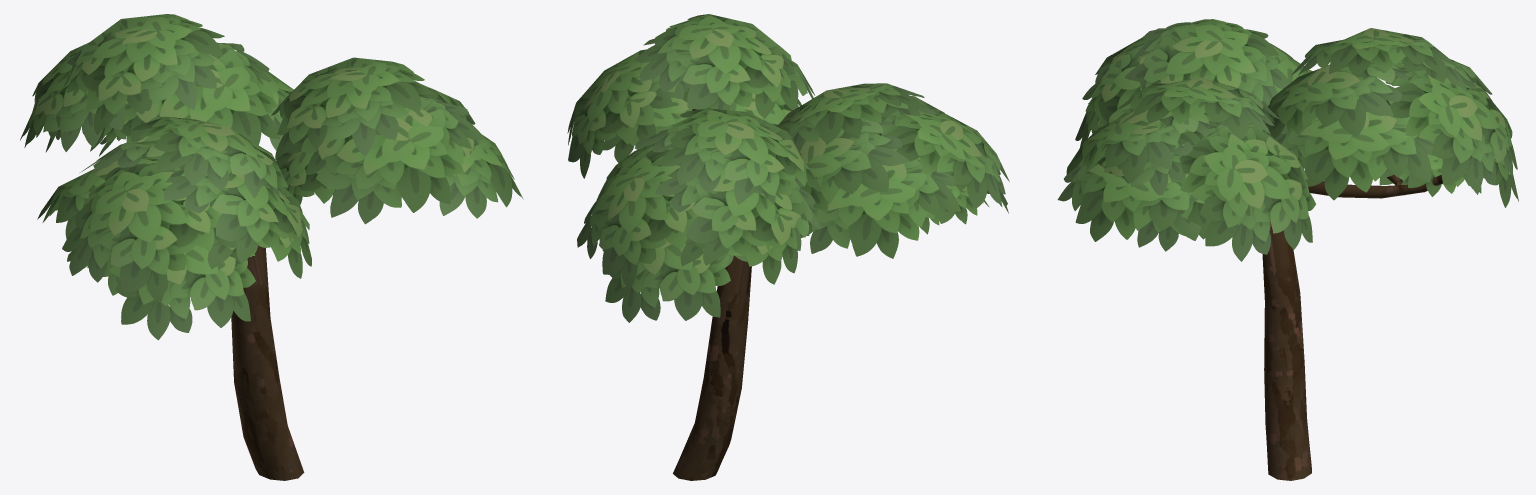
The model's file is textured_tree_2.glb.
The picture shows the model from 3 angles, left to right: view 1: azimuth 30°, elevation 25°; view 2: azimuth 150°, elevation 25°; view 3: azimuth 270°, elevation 25°; orthographic projection. The views are drawn at different scales.
Visible parts, largest first — view 1: Tree_2_Cylinder.017; view 2: Tree_2_Cylinder.017; view 3: Tree_2_Cylinder.017.
Boxes of the visible parts, x1,y1,x2,y2 form: Tree_2_Cylinder.017: (20, 14, 523, 480); Tree_2_Cylinder.017: (567, 14, 1009, 480); Tree_2_Cylinder.017: (1057, 19, 1518, 480).
Bounding box in the file's own units: 10.84 × 10 × 10.8.
Materials: 2 (2 with a texture image).
